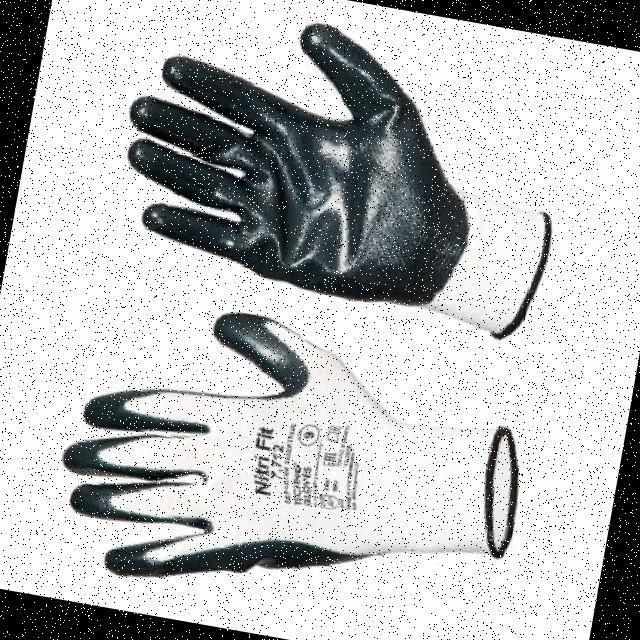Gloves: (146, 21, 502, 326), (78, 329, 465, 570)
